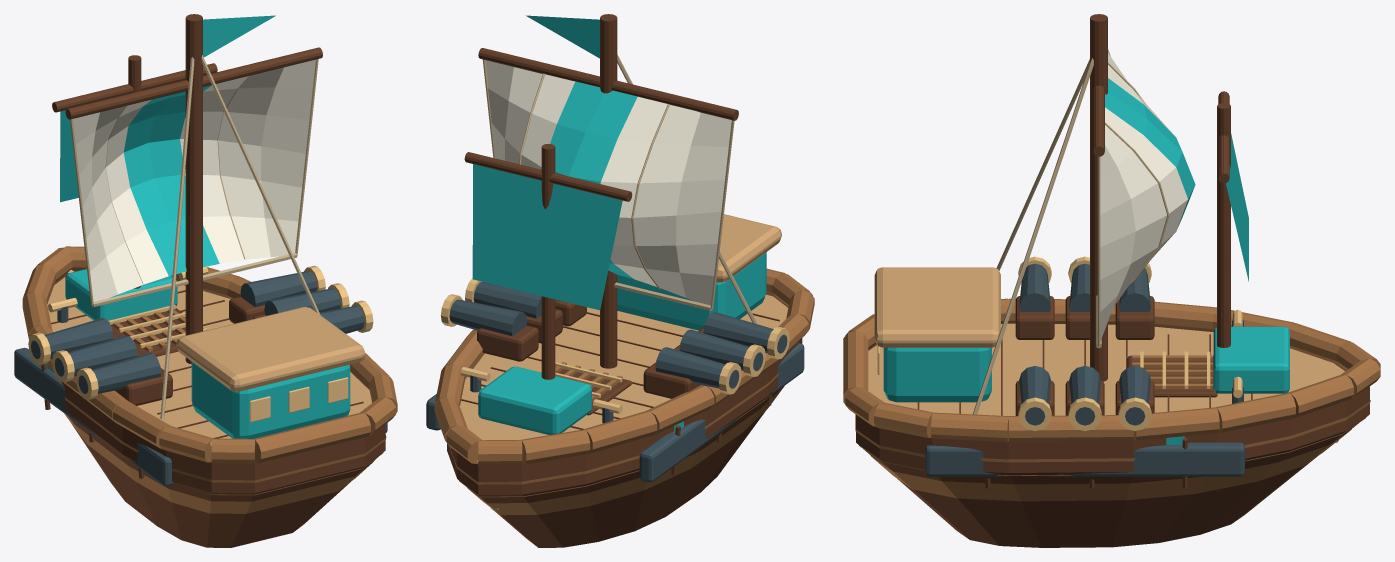
Rendered from ship-stage-3.glb.
3 renders of one model, left to right at view 1: azimuth 30°, elevation 25°; view 2: azimuth 150°, elevation 25°; view 3: azimuth 270°, elevation 25°, orthographic. The views are drawn at different scales.
Parts seen in each view (by area): view 1: Ship Sail ivory.002, Ship Walnut.002, Ship Hull amber.002, Ship Honey teak.002, Ship Team teal.002, Ship Rope flax.002, Ship Cannon iron.002, Ship Brass.002, Broadside barrel.006, Broadside barrel.011, Broadside barrel.007, Broadside barrel.008 (+7 smaller); view 2: Ship Sail ivory.002, Ship Walnut.002, Ship Team teal.002, Ship Hull amber.002, Ship Honey teak.002, Ship Cannon iron.002, Ship Rope flax.002, Broadside barrel.011, Broadside barrel.008, Cannon carriage.011, Broadside barrel.007, Broadside barrel.006 (+7 smaller); view 3: Ship Walnut.002, Ship Hull amber.002, Ship Honey teak.002, Ship Sail ivory.002, Ship Team teal.002, Ship Cannon iron.002, Ship Rope flax.002, Broadside barrel.006, Cannon carriage.006, Cannon carriage.008, Ship Brass.002, Broadside barrel.009 (+8 smaller).
Part boxes in pixels (x1,y1,x2,y2): Ship Sail ivory.002: (72, 59, 315, 301); Ship Walnut.002: (41, 14, 385, 547); Ship Hull amber.002: (22, 246, 397, 513); Ship Honey teak.002: (47, 271, 371, 438); Ship Team teal.002: (47, 15, 350, 438); Ship Rope flax.002: (70, 55, 320, 418); Ship Cannon iron.002: (14, 306, 387, 486); Ship Brass.002: (48, 266, 348, 445); Broadside barrel.006: (92, 353, 161, 393); Broadside barrel.011: (240, 271, 316, 307); Broadside barrel.007: (68, 335, 137, 376); Broadside barrel.008: (44, 318, 113, 358); Ship Sail ivory.002: (485, 60, 731, 305); Ship Walnut.002: (447, 14, 802, 547); Ship Team teal.002: (472, 15, 766, 434); Ship Hull amber.002: (434, 268, 814, 515); Ship Honey teak.002: (460, 214, 788, 440); Ship Cannon iron.002: (426, 343, 804, 482); Ship Rope flax.002: (482, 54, 757, 324); Broadside barrel.011: (449, 299, 526, 336); Broadside barrel.008: (655, 347, 725, 388); Cannon carriage.011: (477, 325, 538, 361); Broadside barrel.007: (679, 329, 749, 370); Broadside barrel.006: (703, 312, 773, 353); Ship Walnut.002: (856, 14, 1369, 547); Ship Hull amber.002: (843, 298, 1380, 501); Ship Honey teak.002: (868, 267, 1344, 415); Ship Sail ivory.002: (1100, 49, 1195, 341); Ship Team teal.002: (883, 133, 1289, 444); Ship Cannon iron.002: (925, 319, 1244, 476); Ship Rope flax.002: (973, 58, 1169, 414); Broadside barrel.006: (1019, 263, 1050, 311); Cannon carriage.006: (1015, 296, 1054, 339); Cannon carriage.008: (1115, 296, 1154, 339); Ship Brass.002: (877, 309, 1338, 442); Broadside barrel.009: (1019, 366, 1050, 403).
Size of the model in its own units: 2.77 by 4.42 by 4.33.
